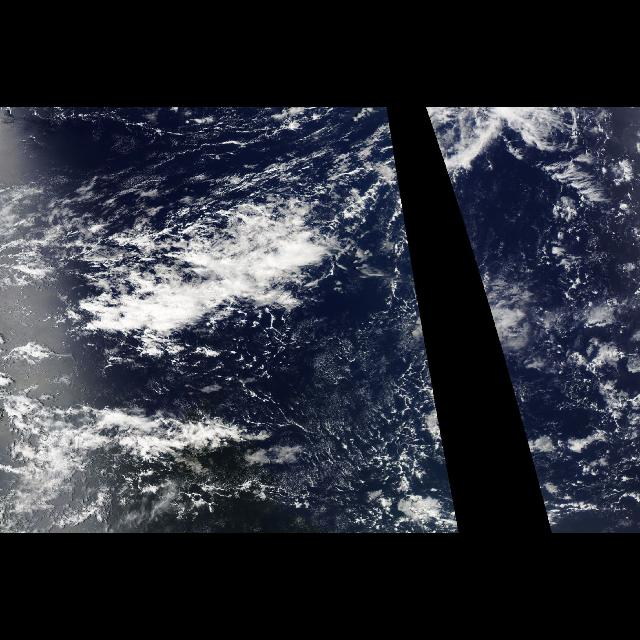Gravel: (234, 319, 430, 525), (509, 189, 611, 486)
